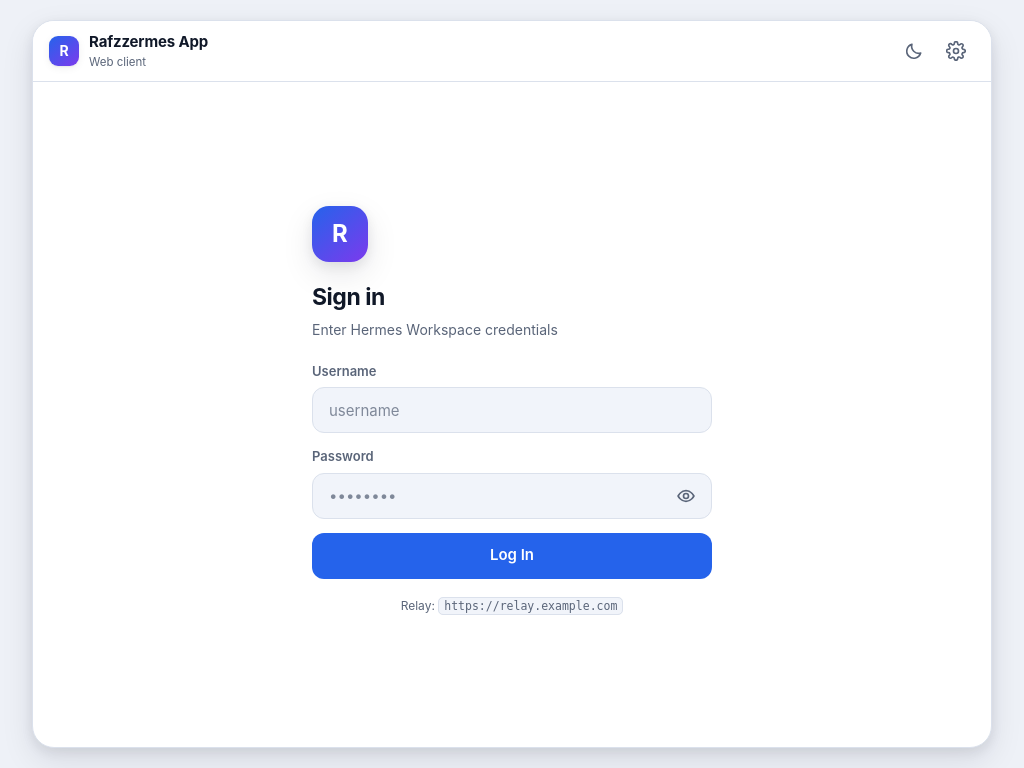
Test: App (rendered in jsdom) › streams a reply into the transcript when a message is sent
Type "rafi" into the field labelled "Username" at (516, 410), box x1=327 y1=388 x2=705 y2=432
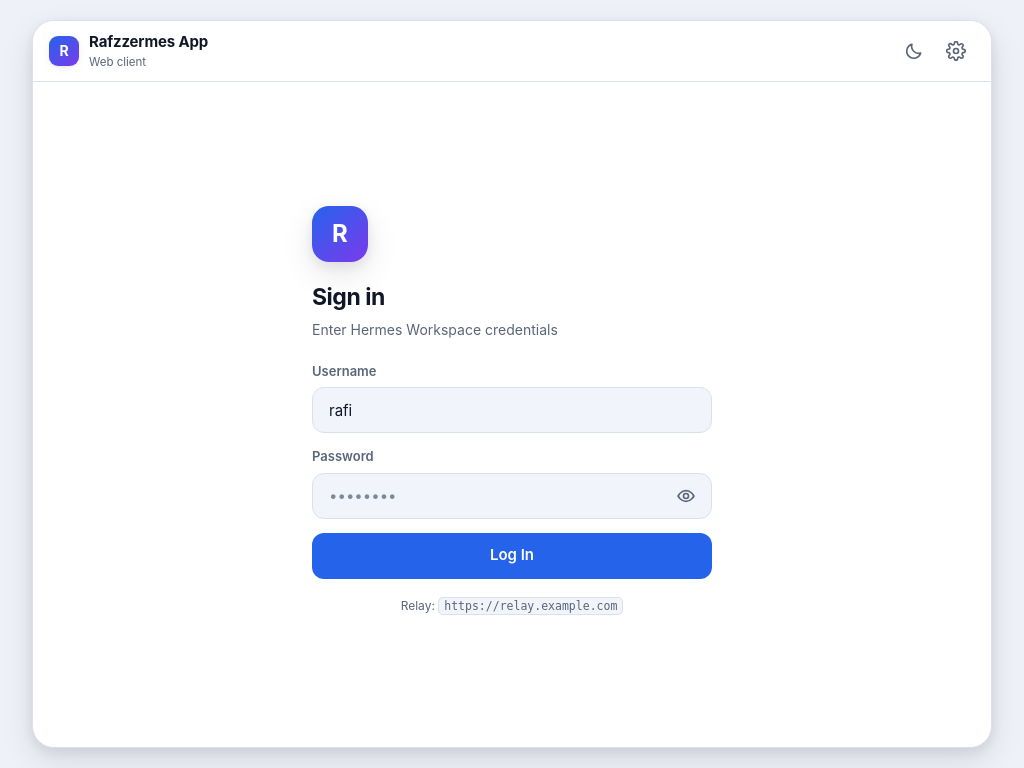
Type "secret" into the password field labelled "Password" at (494, 496), box x1=327 y1=474 x2=661 y2=518
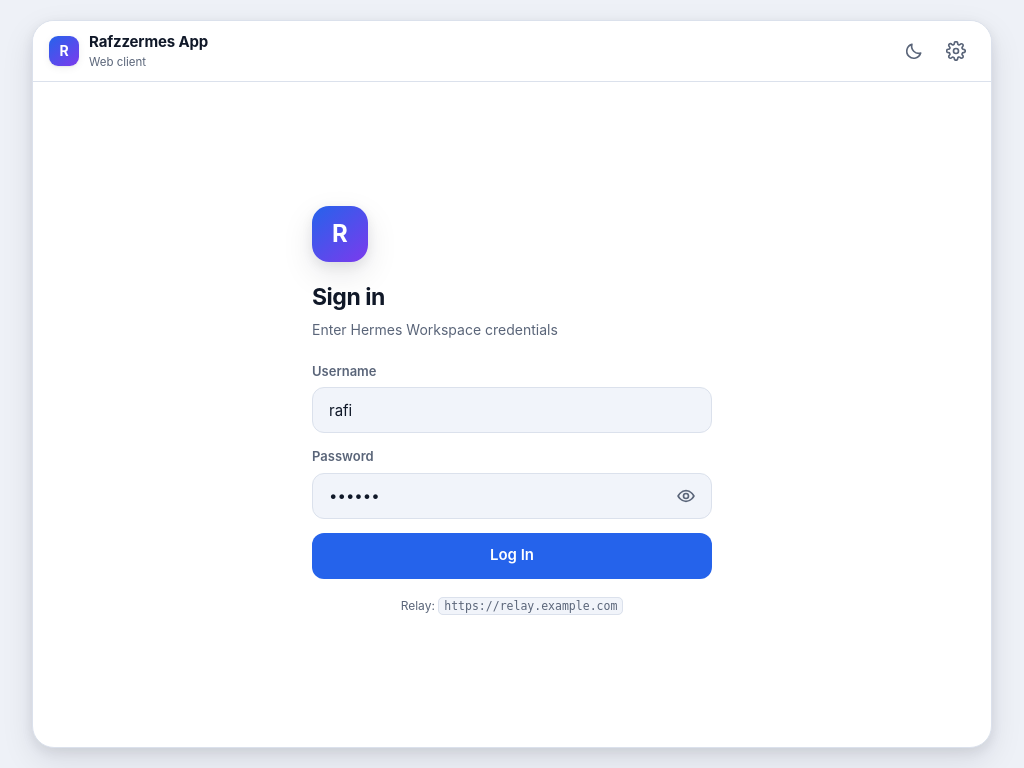
Click the button "Log In" at (512, 556), box x1=312 y1=532 x2=712 y2=578
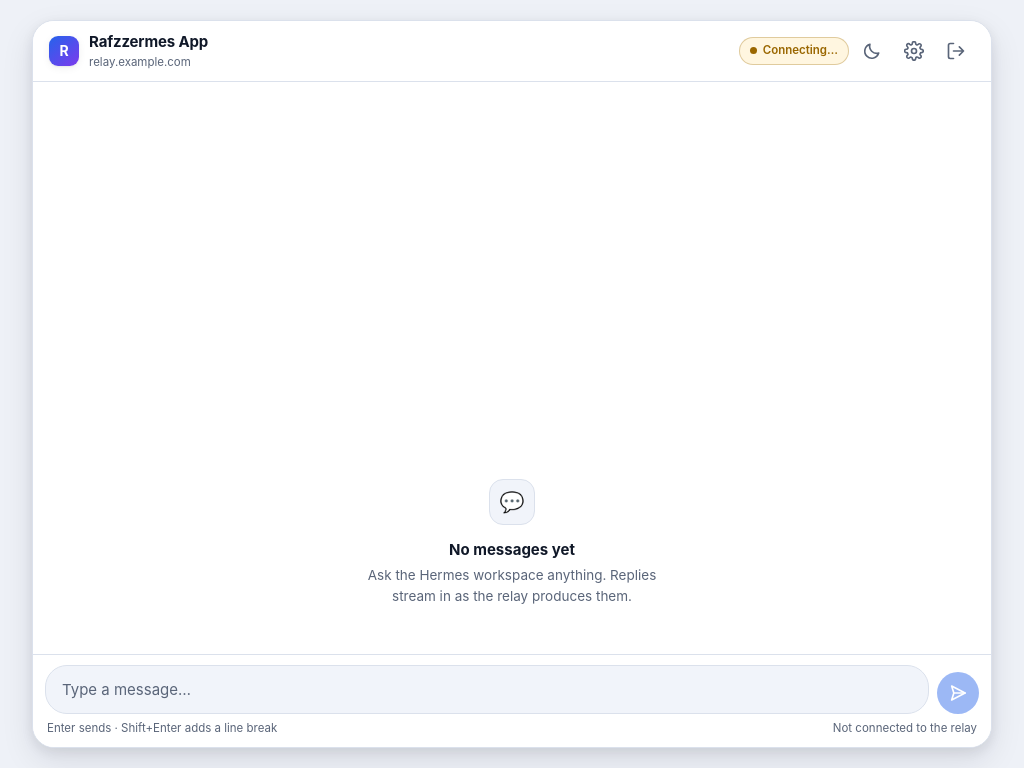
Now the text box labelled "message" is shown
Type "Say hello" into the text box labelled "message" at (491, 689), box x1=62 y1=668 x2=920 y2=711
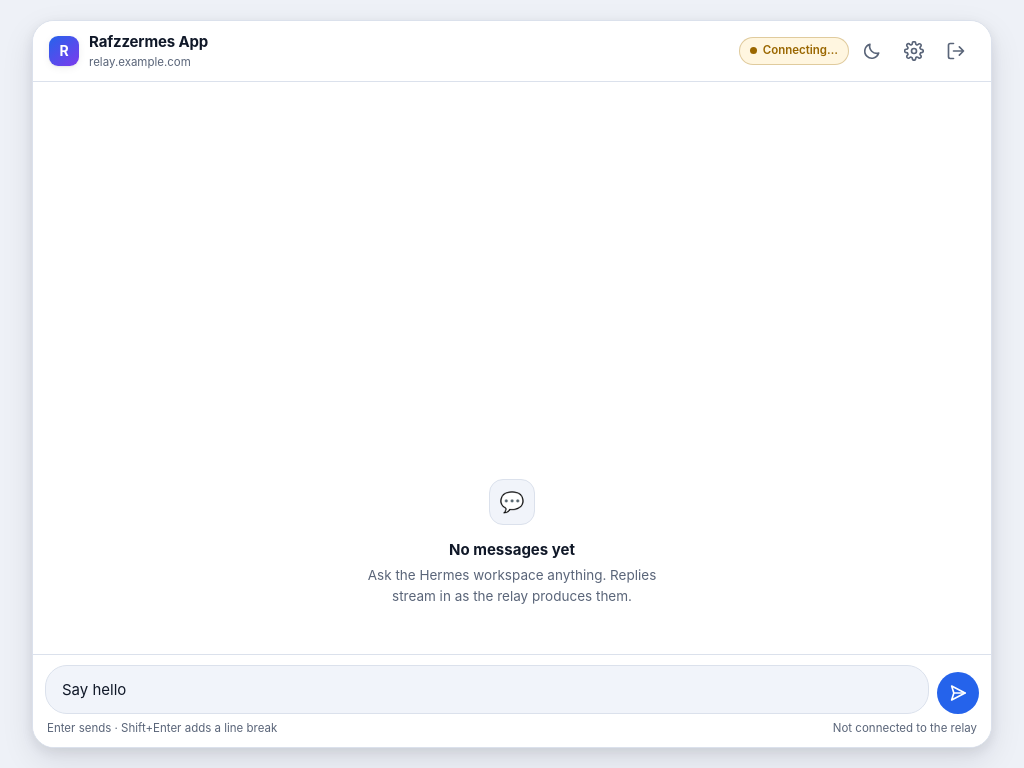
Press Enter in the text box named "message", box x1=62 y1=668 x2=920 y2=711
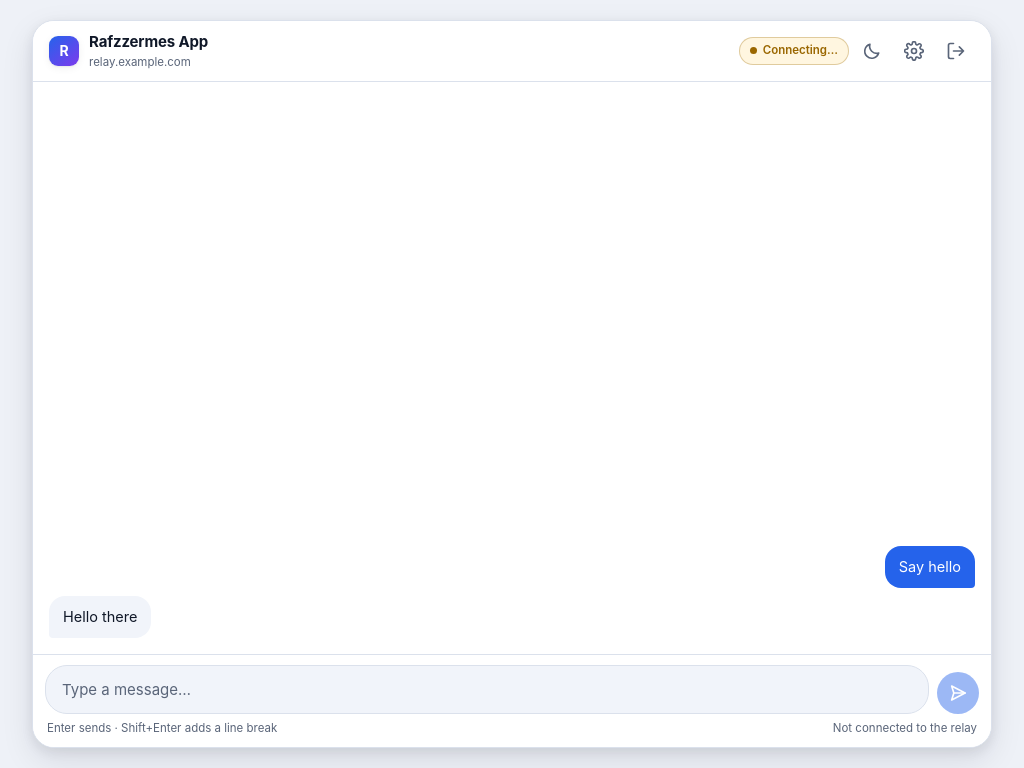
Now the text "Say hello" is shown, box x1=885 y1=546 x2=975 y2=588
Now the text "Hello there" is shown, box x1=49 y1=596 x2=152 y2=638
